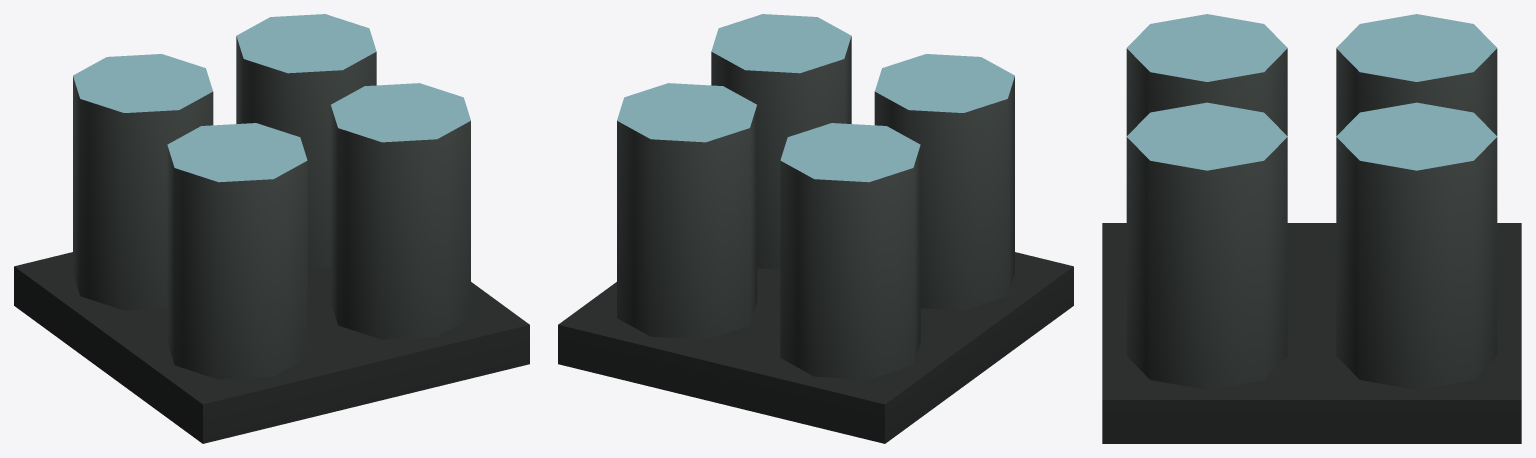
Rendered from accumulator.glb.
The picture shows the model from 3 angles, left to right: view 1: azimuth 30°, elevation 25°; view 2: azimuth 150°, elevation 25°; view 3: azimuth 270°, elevation 25°; orthographic projection. The views are drawn at different scales.
Parts seen in each view (by area): view 1: accumulator; view 2: accumulator; view 3: accumulator.
Boxes of the visible parts, <box> form: accumulator: <box>14,14,529,443</box>; accumulator: <box>558,14,1073,443</box>; accumulator: <box>1102,14,1521,443</box>.
Size of the model in its own units: 0.26 by 0.18 by 0.26.
